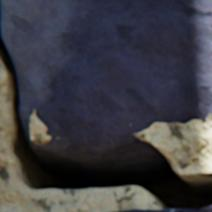brick: (2, 0, 211, 150), (125, 206, 211, 211)
crack: (0, 0, 211, 211)
